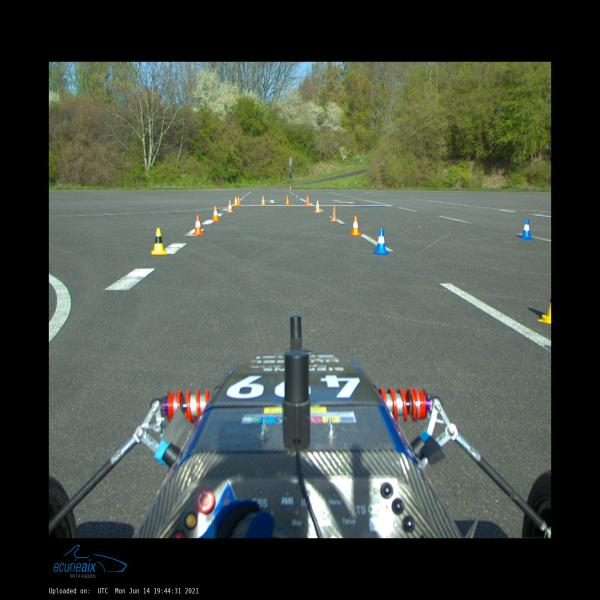blue_cone: (372, 228, 390, 255), (520, 219, 533, 239)
orange_cone: (350, 216, 361, 236), (193, 216, 204, 235), (212, 206, 220, 221), (331, 207, 338, 221), (314, 200, 321, 213), (227, 200, 233, 212), (285, 196, 290, 205), (234, 196, 238, 206), (306, 196, 310, 206), (262, 196, 266, 204), (238, 196, 241, 204)
yellow_cone: (151, 228, 167, 255), (537, 296, 551, 324)
